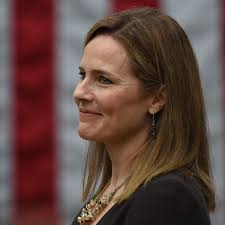no_mask: (71, 7, 182, 158)
